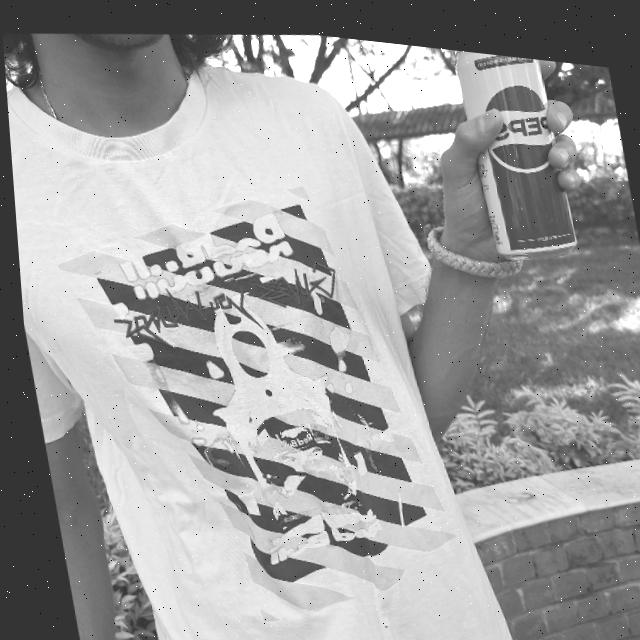Pepsi Retro: (451, 39, 580, 250)
